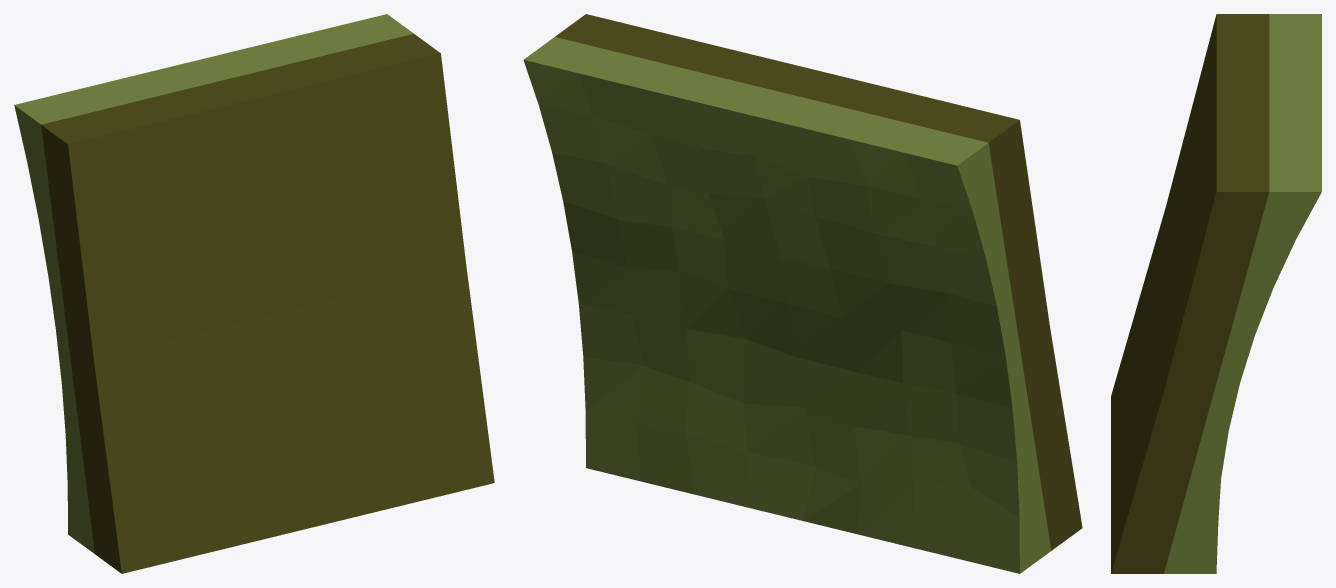
File: Slope_Bottom.fbx
3 views of the same model, side by side, from view 1: azimuth 30°, elevation 25°; view 2: azimuth 150°, elevation 25°; view 3: azimuth 270°, elevation 25° (orthographic). The views are drawn at different scales.
Visible parts, largest first — view 1: Slope_Bottom; view 2: Slope_Bottom; view 3: Slope_Bottom.
Boxes of the visible parts, x1,y1,x2,y2 form: Slope_Bottom: (14, 14, 494, 573); Slope_Bottom: (523, 14, 1082, 573); Slope_Bottom: (1111, 14, 1321, 573).
Size of the model in its own units: 400 by 400 by 200.
